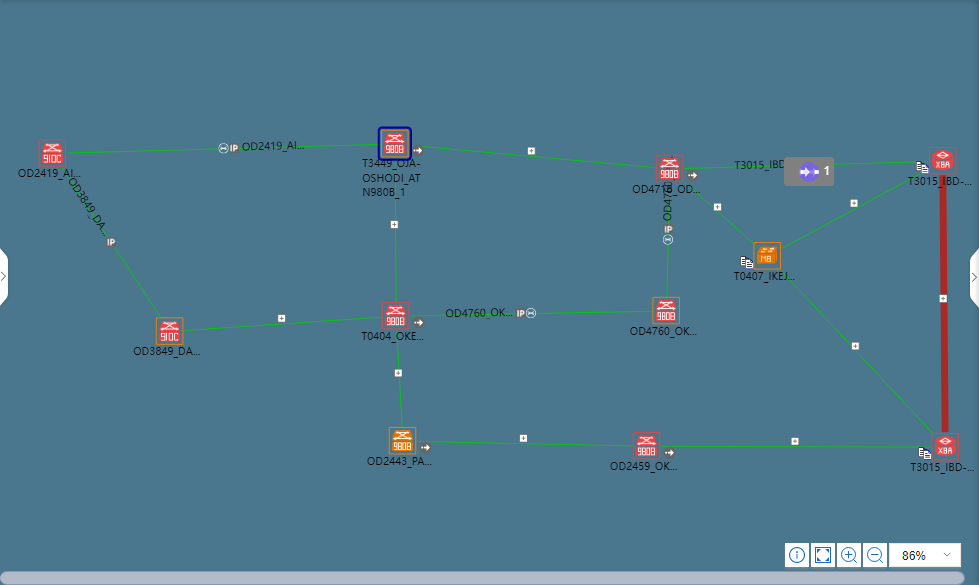ATN_Orange: (389, 430, 418, 452)
ATN_Red: (382, 130, 411, 159), (156, 320, 185, 349), (382, 302, 411, 331), (652, 296, 679, 323), (633, 436, 662, 458), (658, 155, 679, 184), (40, 143, 63, 166)
Link_Green: (780, 271, 938, 430), (64, 167, 161, 315), (780, 173, 913, 250), (413, 143, 653, 169), (682, 179, 754, 242), (187, 314, 378, 337), (64, 143, 337, 159), (407, 308, 662, 325), (664, 442, 932, 453), (664, 185, 675, 294), (688, 161, 783, 172), (395, 352, 405, 429), (621, 442, 626, 453)
Link_Red: (939, 173, 950, 435)
Router_Red: (933, 436, 962, 458), (927, 149, 956, 170)
Switch_Orange: (756, 247, 777, 270)
